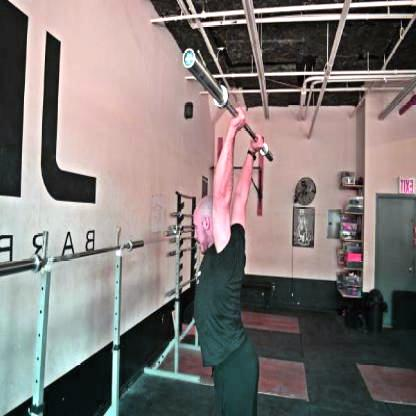Barbell: (178, 46, 195, 70)
